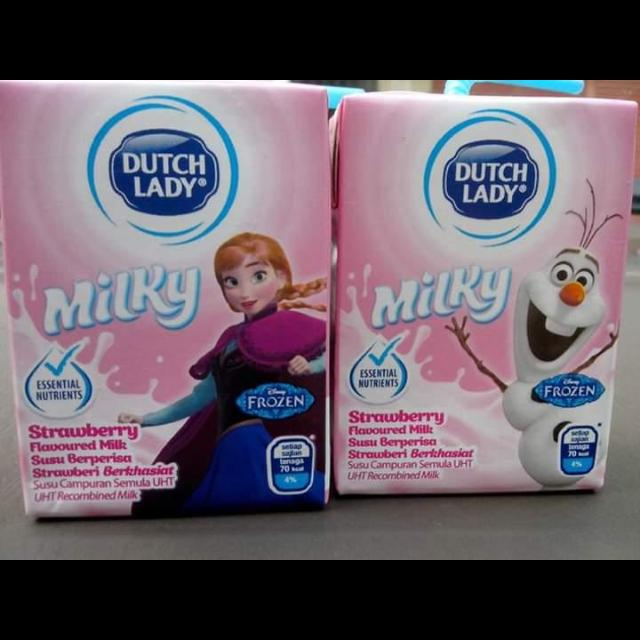caixinha: (1, 82, 326, 512), (334, 96, 630, 496)
